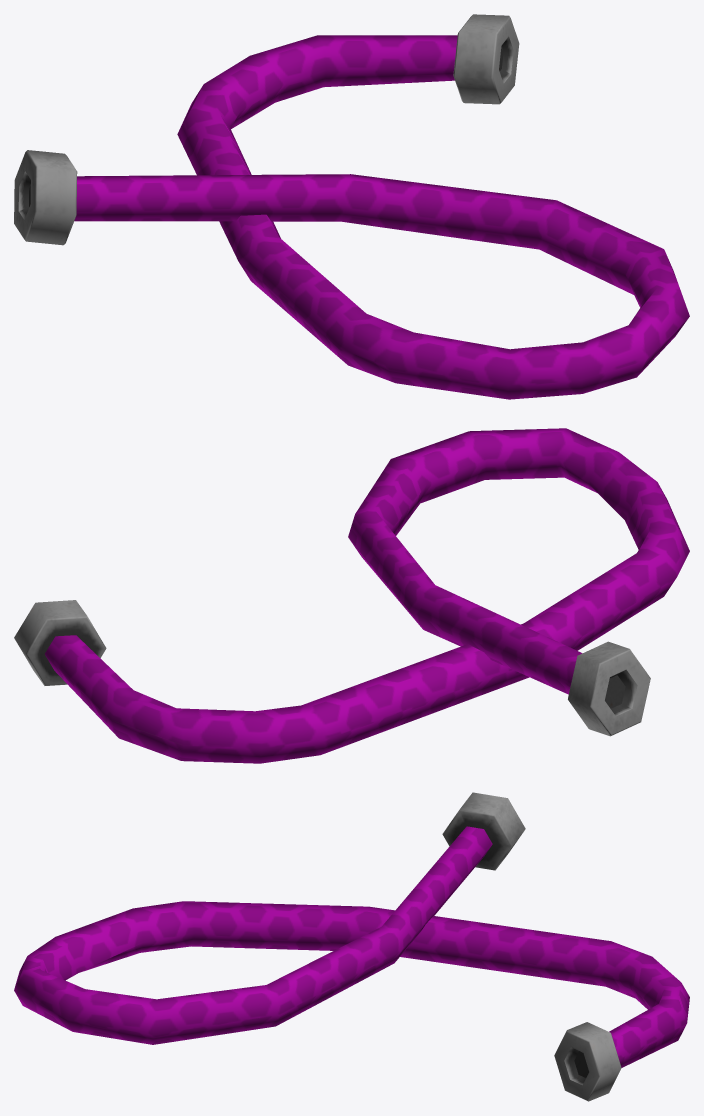
3 views of the same model, one above another, from view 1: azimuth 30°, elevation 25°; view 2: azimuth 150°, elevation 25°; view 3: azimuth 270°, elevation 25° (orthographic). The views are drawn at different scales.
Parts seen in each view (by area): view 1: SM_Tube_03; view 2: SM_Tube_03; view 3: SM_Tube_03.
Boxes of the visible parts, box(x1,y1,x2,y2) form: SM_Tube_03: box(14, 14, 689, 399); SM_Tube_03: box(14, 428, 689, 763); SM_Tube_03: box(14, 792, 689, 1101).
Size of the model in its own units: 135 by 166 by 24.18.
1 material, 1 textured.
